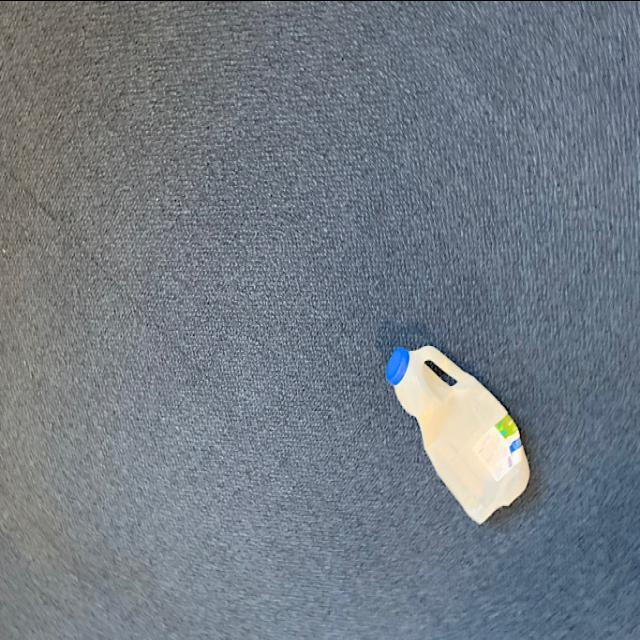litter: (382, 340, 532, 524)
